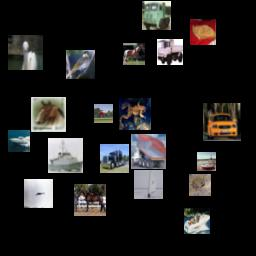airplane: (24, 179, 53, 208), (94, 104, 113, 123)
automobile: (203, 103, 241, 141)
bird: (8, 35, 43, 70), (66, 50, 95, 79)
cat: (190, 19, 216, 45)
frog: (119, 98, 151, 130), (189, 174, 211, 196)
ship: (48, 138, 83, 173), (134, 170, 163, 199), (184, 208, 210, 234), (8, 130, 30, 152), (197, 152, 216, 171)
truck: (131, 134, 166, 169), (142, 1, 171, 30), (100, 144, 129, 173), (157, 39, 183, 65)
